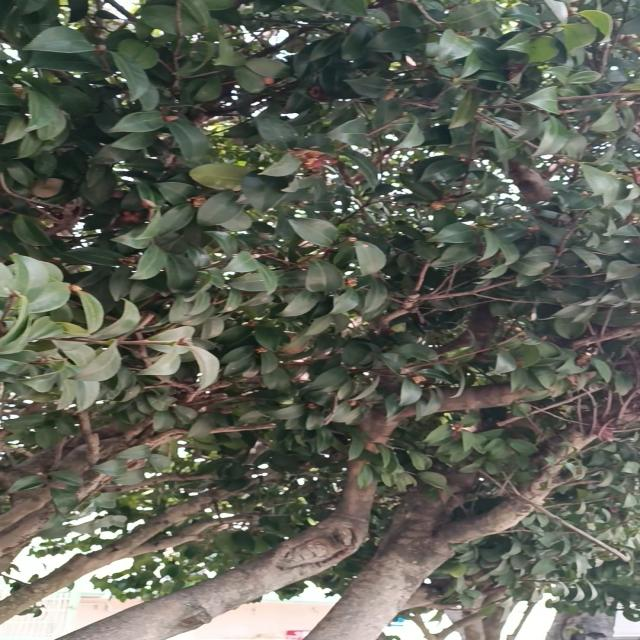Branch: (67, 359, 594, 640), (302, 465, 468, 640)
Twig: (0, 471, 312, 623), (448, 395, 640, 544)
